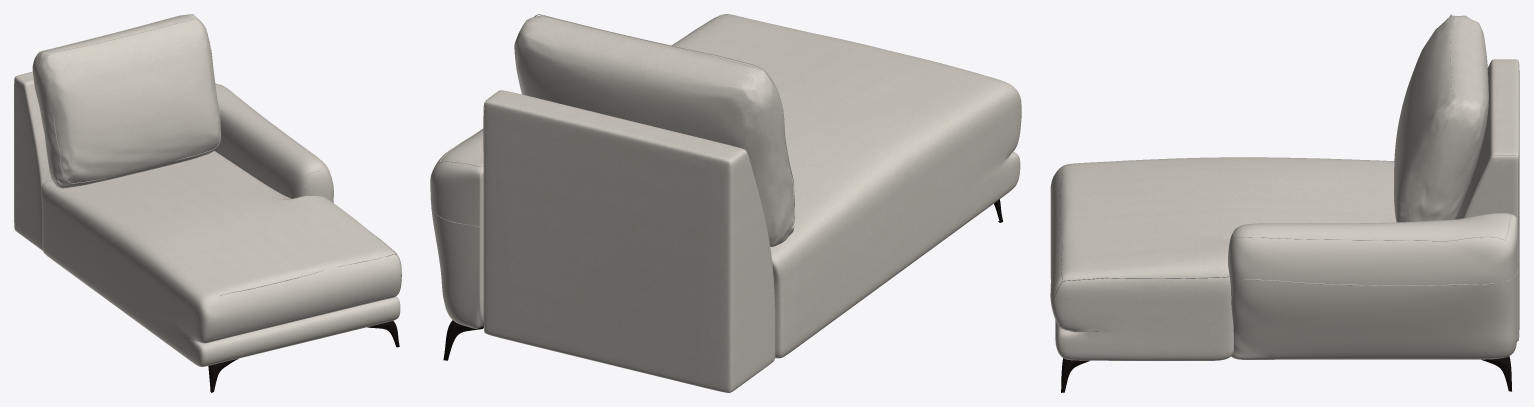
The model's file is chaise.glb.
The picture shows the model from 3 angles, left to right: view 1: azimuth 30°, elevation 25°; view 2: azimuth 150°, elevation 25°; view 3: azimuth 270°, elevation 25°; orthographic projection. The views are drawn at different scales.
Visible parts, largest first — view 1: object 1, pé, D=~ 0,00 m; view 2: object 1, pé; view 3: object 1, pé.
Part boxes in pixels (<box>): object 1: <box>14,14,401,366</box>; pé: <box>208,321,399,392</box>; D=~ 0,00 m: <box>213,236,401,339</box>; object 1: <box>430,14,1021,392</box>; pé: <box>443,199,1002,360</box>; object 1: <box>1050,14,1519,360</box>; pé: <box>1061,356,1511,392</box>.
Size of the model in its own units: 1.04 by 1.04 by 1.64.
Materials: 3 (1 with a texture image).
